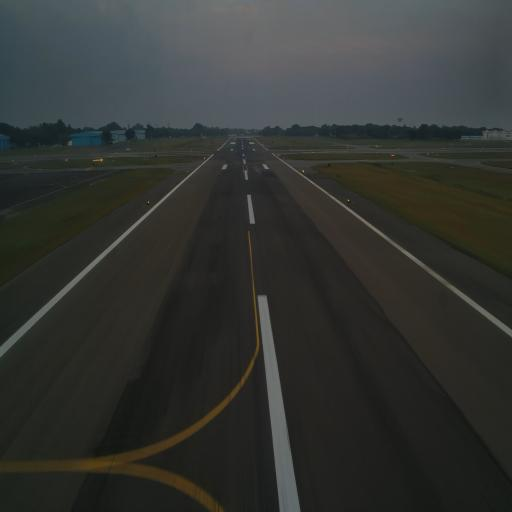on: (346, 196, 351, 205), (147, 198, 151, 206)
